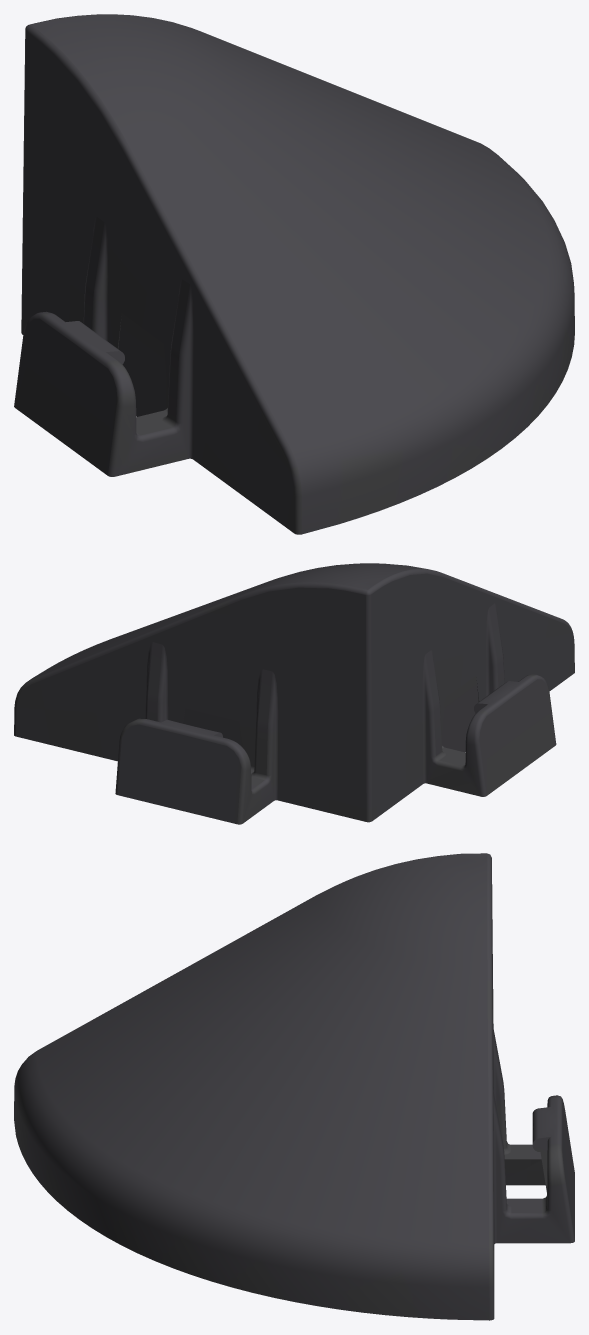
File: runnen_listwa_narozna_pyty_pod_zewn_10494138.glb
3 views of the same model, one above another, from view 1: azimuth 30°, elevation 25°; view 2: azimuth 150°, elevation 25°; view 3: azimuth 270°, elevation 25° (orthographic). The views are drawn at different scales.
Parts seen in each view (by area): view 1: runnen_listwa_narozna_pyty_pod_zewn_10494138; view 2: runnen_listwa_narozna_pyty_pod_zewn_10494138; view 3: runnen_listwa_narozna_pyty_pod_zewn_10494138.
Boxes of the visible parts, x1,y1,x2,y2 form: runnen_listwa_narozna_pyty_pod_zewn_10494138: (14, 14, 574, 534); runnen_listwa_narozna_pyty_pod_zewn_10494138: (14, 563, 574, 824); runnen_listwa_narozna_pyty_pod_zewn_10494138: (14, 853, 574, 1320).
Bounding box in the file's own units: 0.0362 × 0.019 × 0.0362.
Materials: 1 (1 with a texture image).
